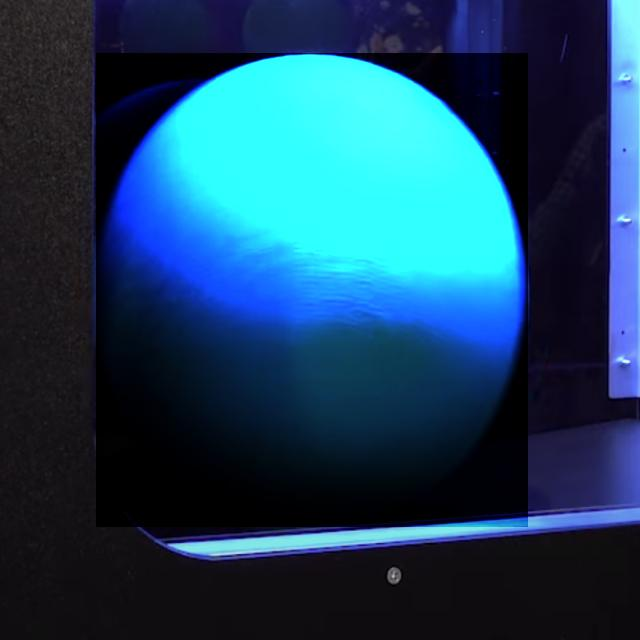Algae: (96, 53, 528, 527)
